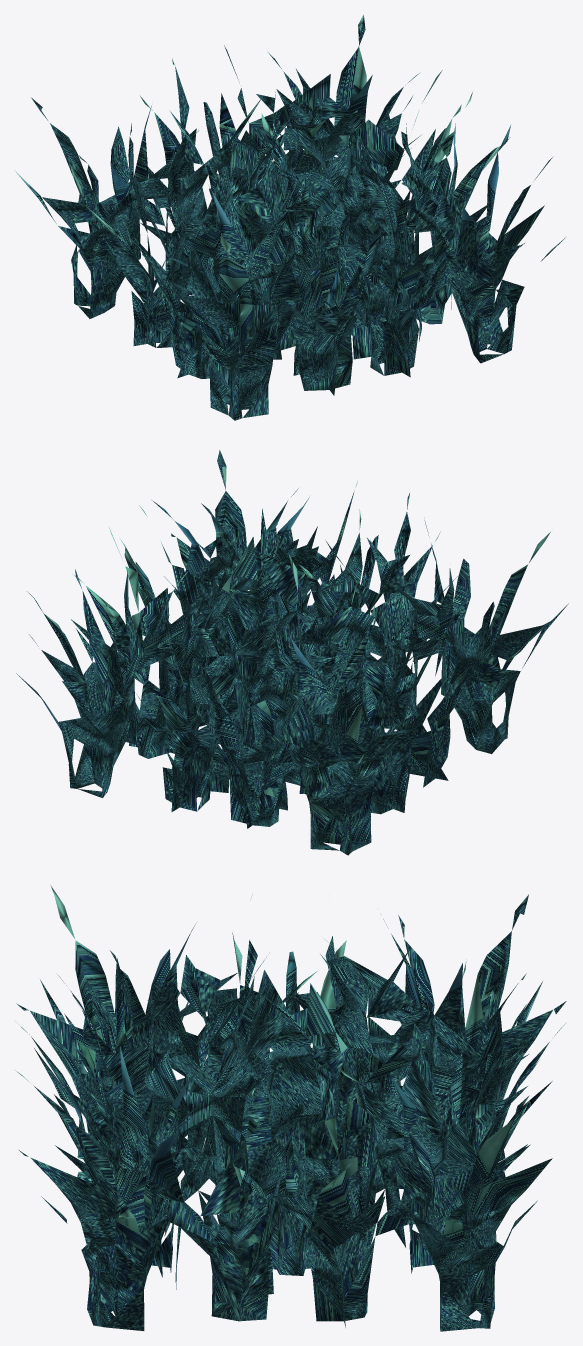
The model's file is cloud_blue_small.glb.
The picture shows the model from 3 angles, top to bottom: view 1: azimuth 30°, elevation 25°; view 2: azimuth 150°, elevation 25°; view 3: azimuth 270°, elevation 25°; orthographic projection. The views are drawn at different scales.
Parts seen in each view (by area): view 1: Mesh_0; view 2: Mesh_0; view 3: Mesh_0.
Part boxes in pixels (left/top/right/bottom): Mesh_0: left=14, top=14, right=565, bottom=420; Mesh_0: left=16, top=450, right=568, bottom=855; Mesh_0: left=15, top=885, right=566, bottom=1331.
Size of the model in its own units: 1.89 by 1.05 by 1.89.
1 material, 1 textured.
